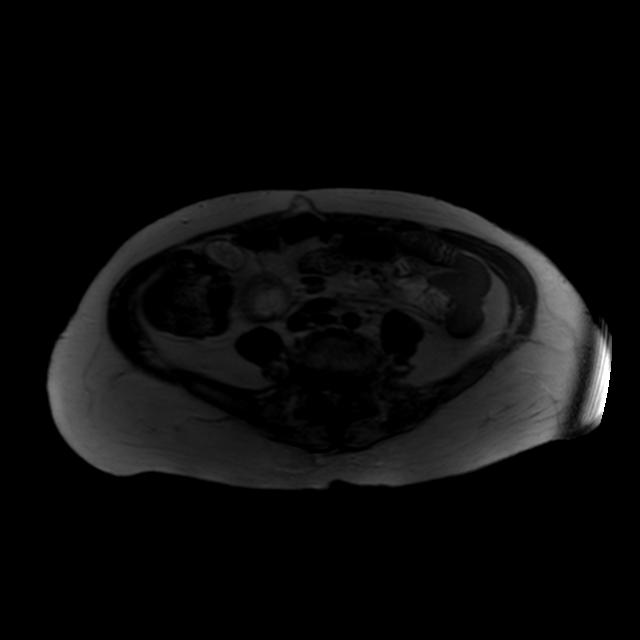sag: (244, 275, 291, 316)
